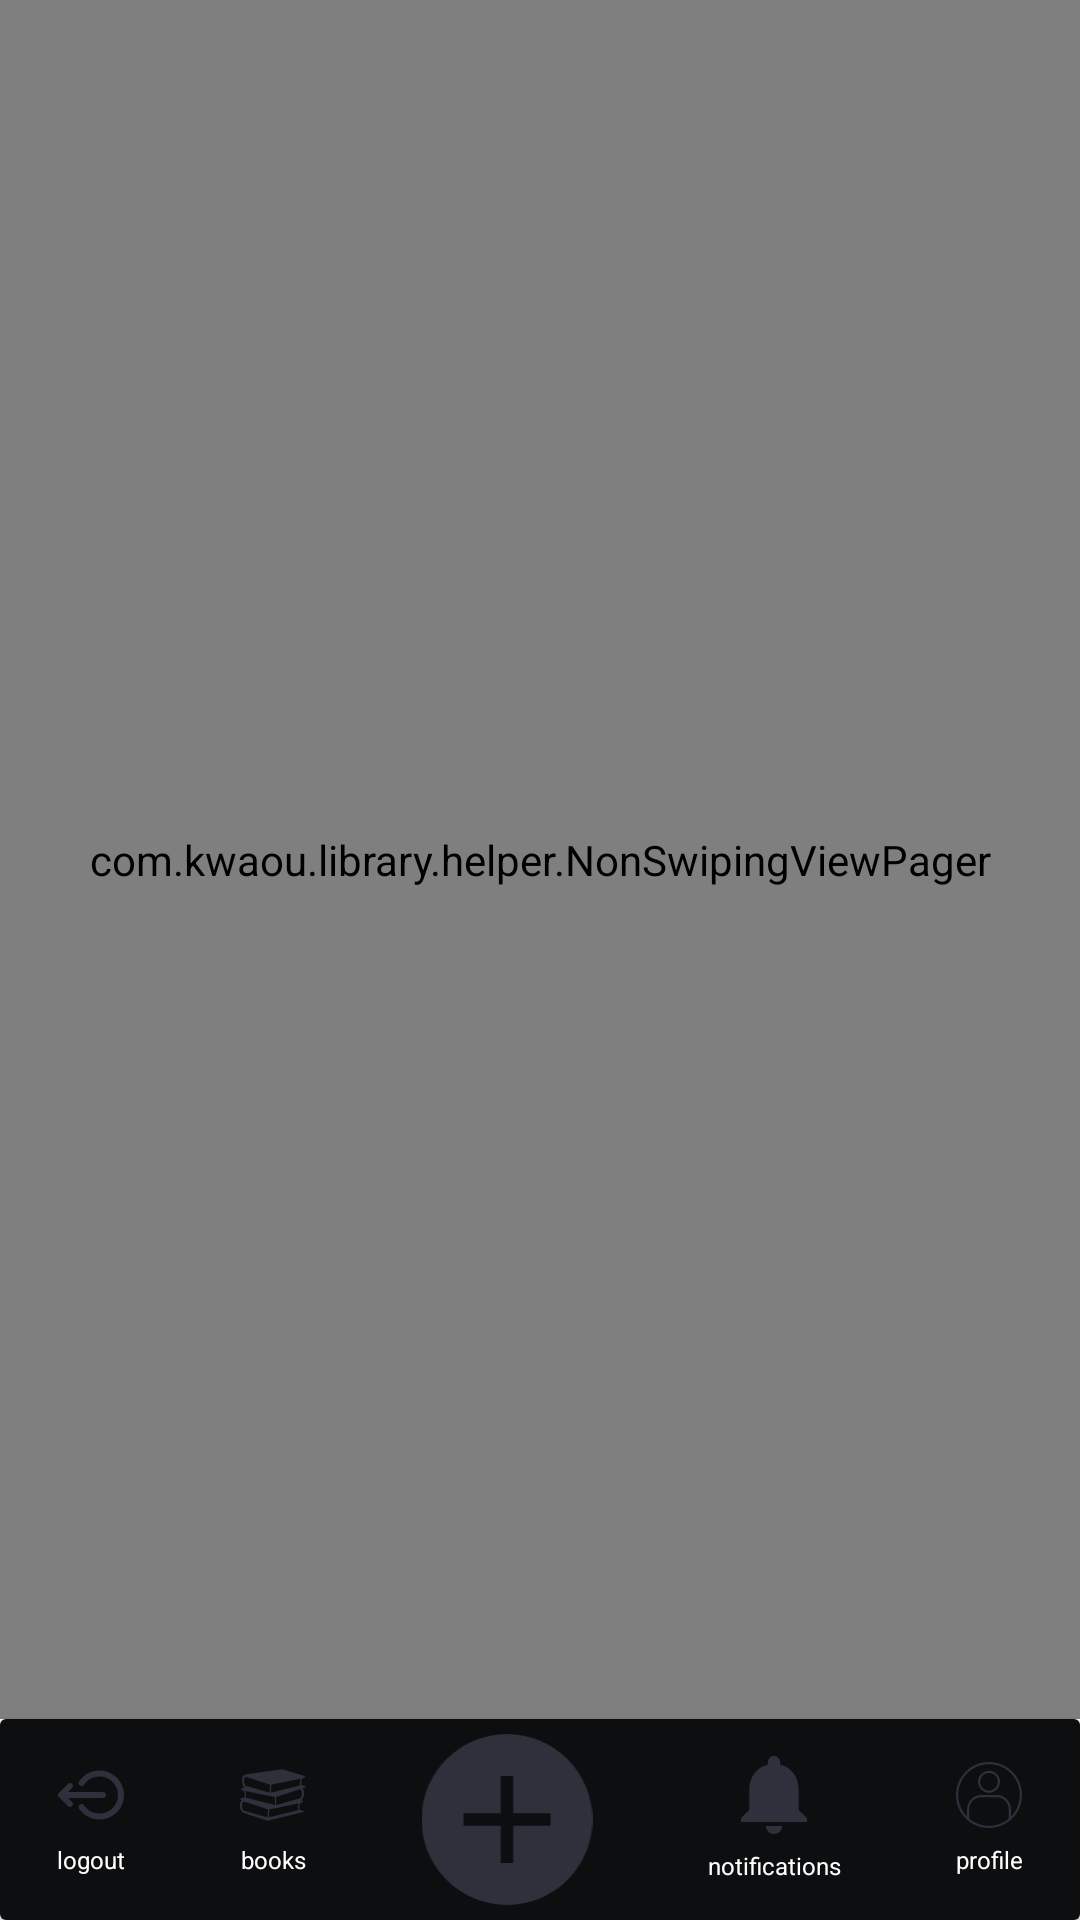

Where icons sit on this 1080 x 1920 app screen, as (x1, y1, x2, y2):
add book: (422, 1734, 593, 1905)
